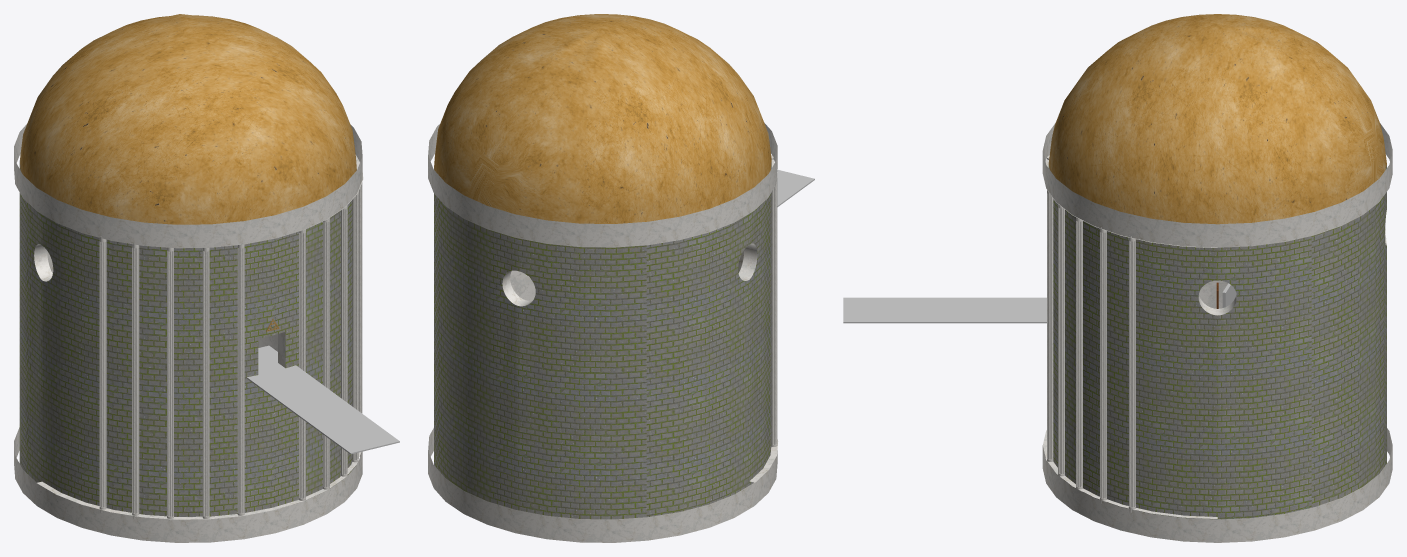
File: level3g.dae
3 renders of one model, left to right at view 1: azimuth 30°, elevation 25°; view 2: azimuth 150°, elevation 25°; view 3: azimuth 270°, elevation 25°, orthographic.
Parts seen in each view (by area): view 1: Cylinder_002, Sphere_002, Cylinder_004, Cylinder_003, Floor2, Floor1, Pillar_009, Pillar_008, Pillar_001, Pillar_006, Pillar_007, Pillar_004 (+5 smaller); view 2: Cylinder_002, Sphere_002, Cylinder_003, Cylinder_004, Pillar_009, Cylinder_001, Floor2; view 3: Cylinder_002, Sphere_002, Cylinder_004, Cylinder_003, Floor2, Floor1, Pillar_005, Pillar_004, Pillar_003, Pillar_000, Pillar_002, Cylinder_001.
Boxes of the visible parts, x1,y1,x2,y2 form: Cylinder_002: (19,160,356,516); Sphere_002: (20,14,356,224); Cylinder_004: (14,427,362,542); Cylinder_003: (14,124,363,248); Floor2: (285,393,399,454); Floor1: (246,345,333,406); Pillar_009: (99,236,106,512); Pillar_008: (132,243,139,518); Pillar_001: (237,244,244,515); Pillar_006: (202,248,209,518); Pillar_007: (167,246,173,521); Pillar_004: (352,189,358,465); Cylinder_002: (434,162,771,519); Sphere_002: (434,14,771,223); Cylinder_003: (428,122,777,247); Cylinder_004: (428,428,778,542); Pillar_009: (771,172,777,446); Cylinder_001: (502,243,757,306); Floor2: (777,169,814,207); Cylinder_002: (1048,165,1386,519); Sphere_002: (1048,14,1386,224); Cylinder_004: (1042,428,1392,542); Cylinder_003: (1042,123,1392,247); Floor2: (843,297,974,323); Floor1: (974,297,1046,323); Pillar_005: (1128,236,1135,512); Pillar_004: (1100,227,1106,503); Pillar_003: (1076,216,1082,491); Pillar_000: (1058,204,1064,478); Pillar_002: (1047,190,1053,464); Cylinder_001: (1198,218,1386,315).
Size of the model in its own units: 49.37 by 77.17 by 68.6.
